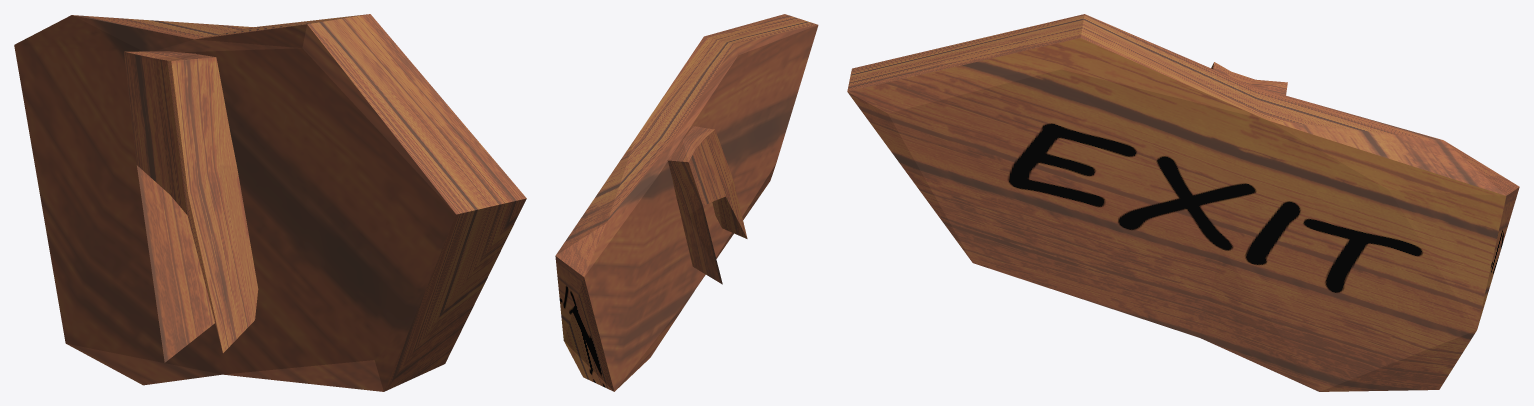
File: sign_head_mesh.fbx
The picture shows the model from 3 angles, left to right: view 1: azimuth 30°, elevation 25°; view 2: azimuth 150°, elevation 25°; view 3: azimuth 270°, elevation 25°; orthographic projection. The views are drawn at different scales.
Parts seen in each view (by area): view 1: Cube.007; view 2: Cube.007; view 3: Cube.007.
Boxes of the visible parts, x1=… form: Cube.007: x1=14, y1=14, x2=526, y2=391; Cube.007: x1=555, y1=14, x2=818, y2=391; Cube.007: x1=847, y1=14, x2=1519, y2=391.
Size of the model in its own units: 118 by 431 by 714.
